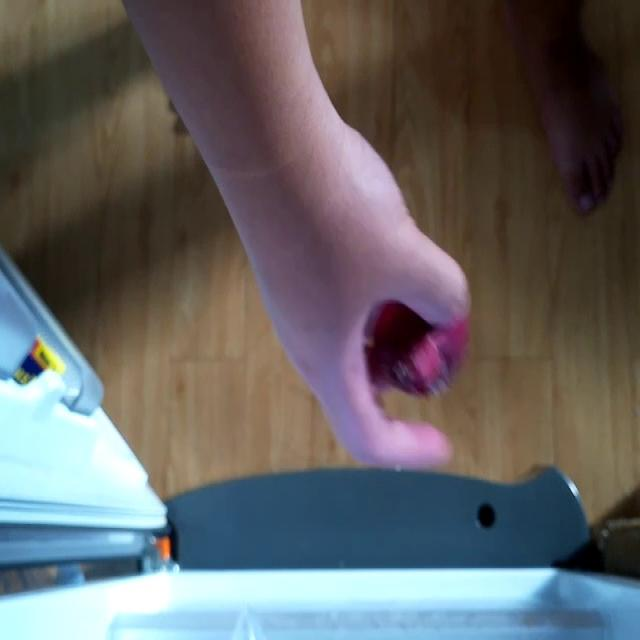onion: (378, 295, 472, 387)
